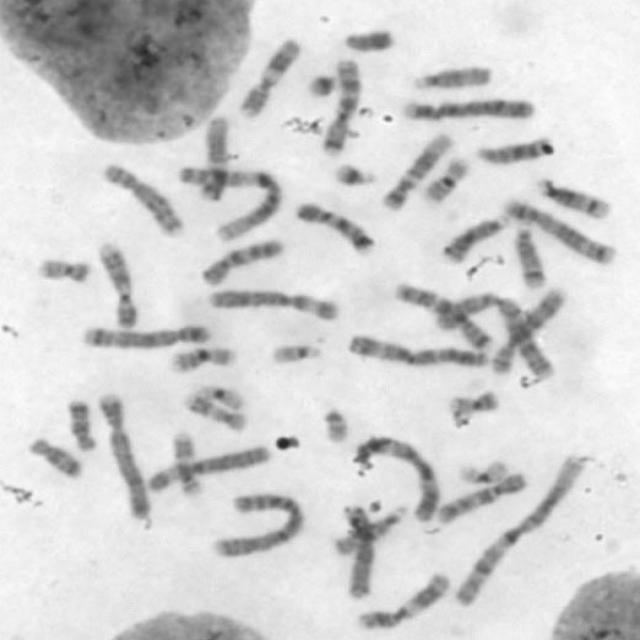A1: (452, 451, 590, 610), (177, 164, 286, 242)
A2: (434, 290, 557, 382), (210, 491, 305, 562)
A3: (354, 434, 443, 523), (347, 333, 492, 369)
B4: (94, 391, 151, 520), (401, 98, 538, 124)
B5: (499, 200, 615, 266), (82, 324, 211, 352)
C10: (436, 471, 528, 527), (197, 238, 287, 288)
C11: (356, 572, 451, 632), (238, 37, 302, 122)
C12: (380, 132, 452, 210), (196, 113, 232, 204)
C6: (144, 443, 274, 495), (205, 284, 341, 323)
C7: (391, 282, 493, 352), (320, 59, 363, 157)
C8: (490, 286, 569, 376), (102, 162, 186, 240)
C9: (293, 200, 376, 256), (94, 241, 138, 330)
D13: (440, 213, 511, 265), (474, 136, 556, 166)
D14: (536, 178, 612, 222), (511, 221, 548, 292)
D15: (331, 503, 410, 557), (411, 64, 494, 91)
E16: (424, 154, 472, 205), (167, 346, 239, 375)
E17: (180, 390, 250, 433), (170, 428, 205, 498)
E18: (28, 437, 82, 478), (65, 396, 98, 452)
F19: (455, 457, 509, 486), (196, 382, 247, 412)
F20: (34, 256, 94, 284), (449, 390, 504, 416)
G21: (335, 164, 376, 189), (306, 72, 338, 100)
G22: (268, 344, 324, 365), (323, 409, 353, 447)
X: (338, 500, 376, 601)
Y: (341, 29, 400, 54)
